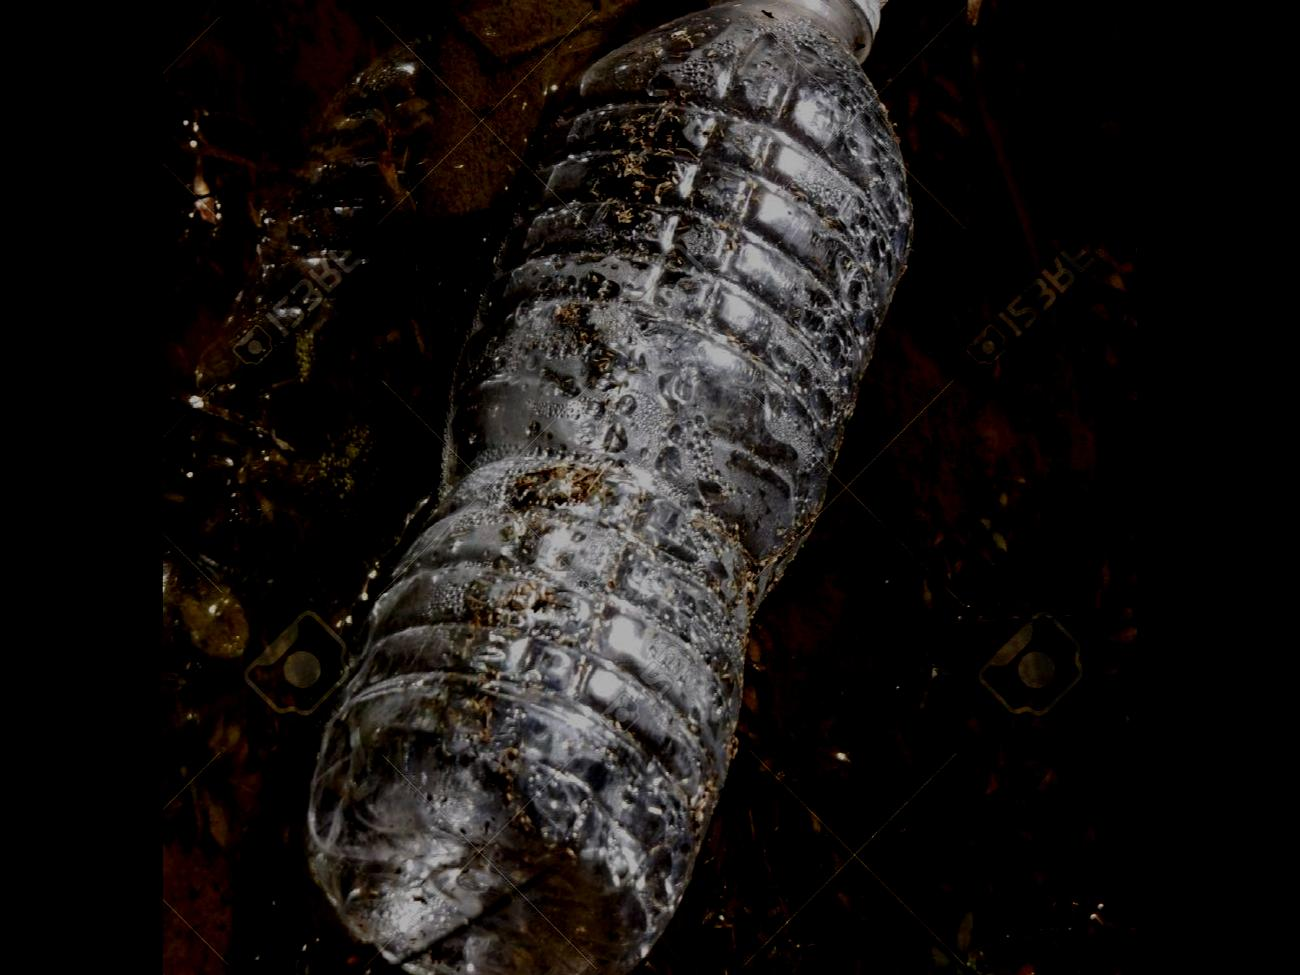bottle: (265, 0, 982, 975)
